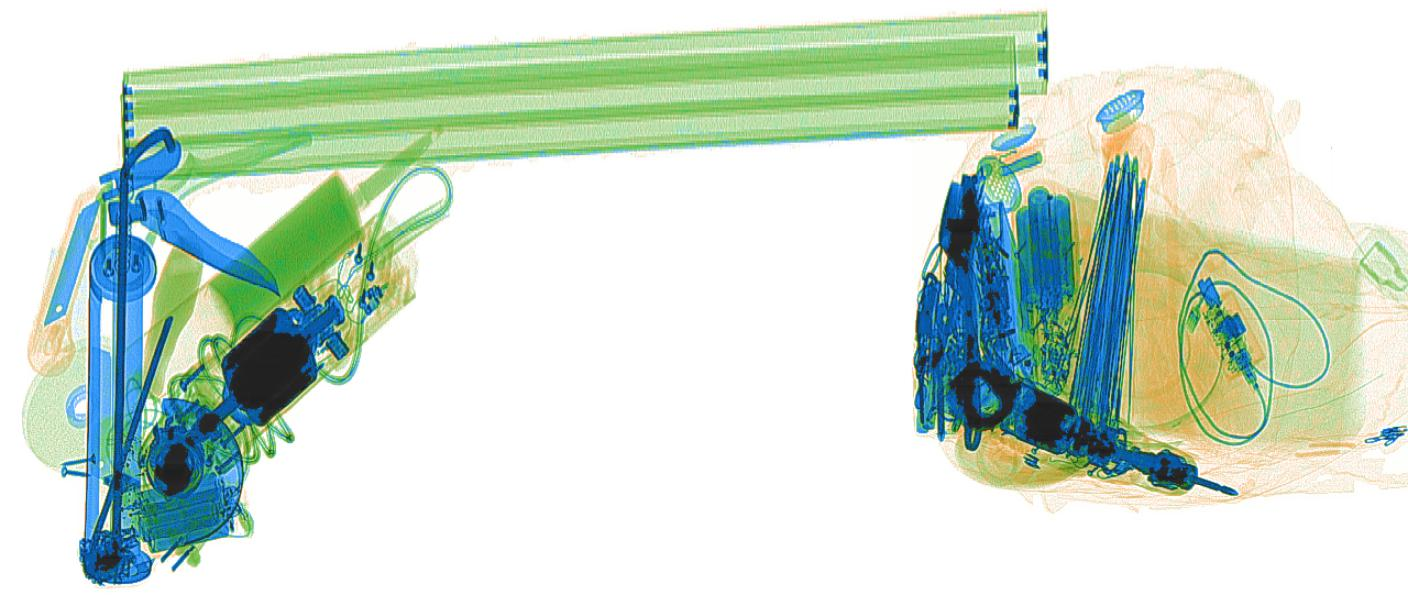battery: (1014, 183, 1082, 320), (132, 468, 239, 555)
knife: (34, 183, 110, 378)
